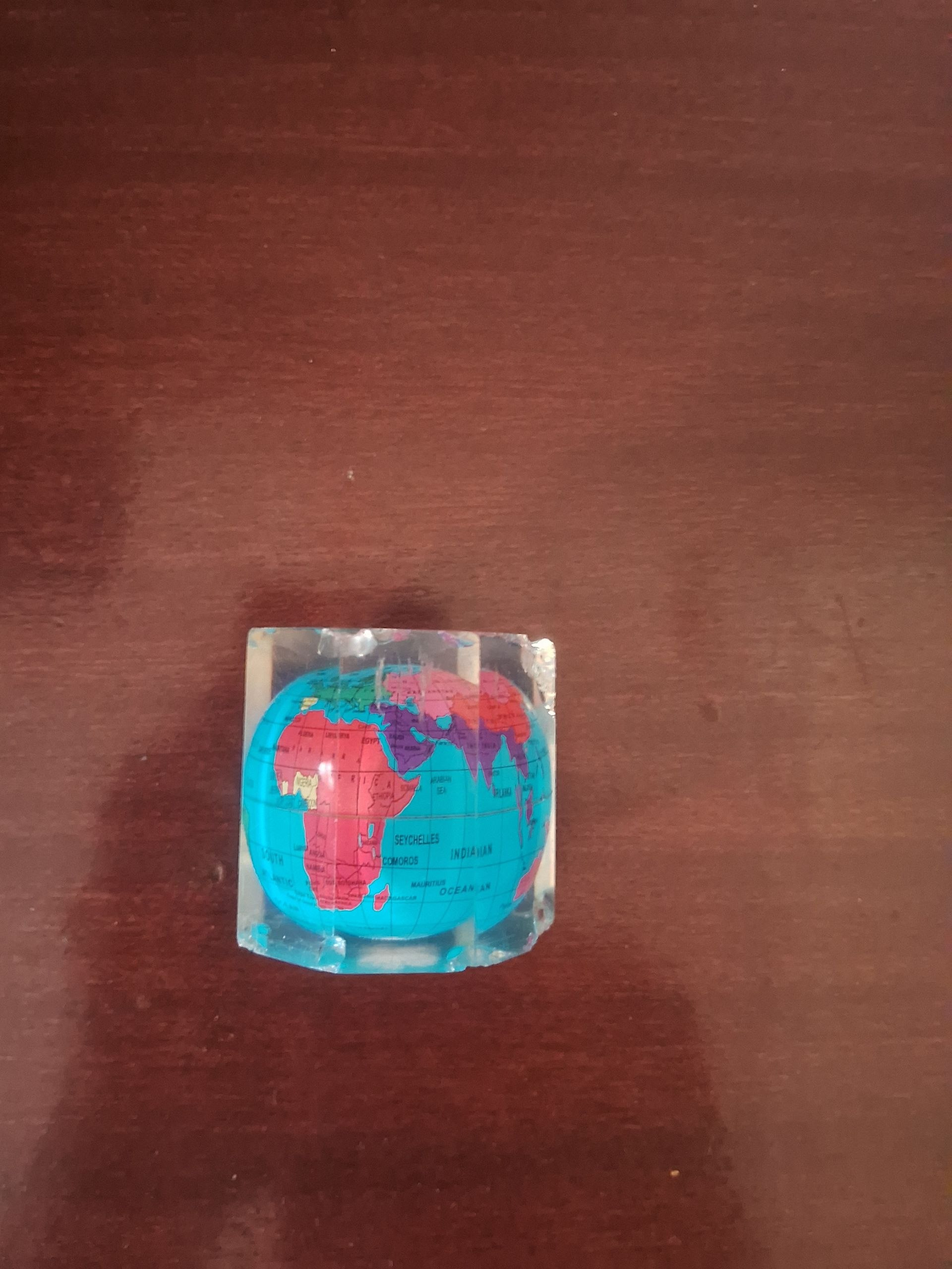world_globe: (217, 604, 574, 988)
